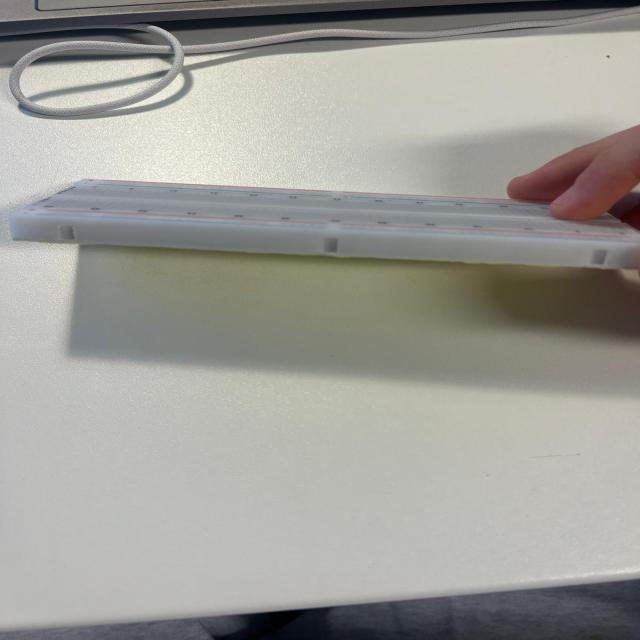BreadBoard: (12, 176, 625, 283)
